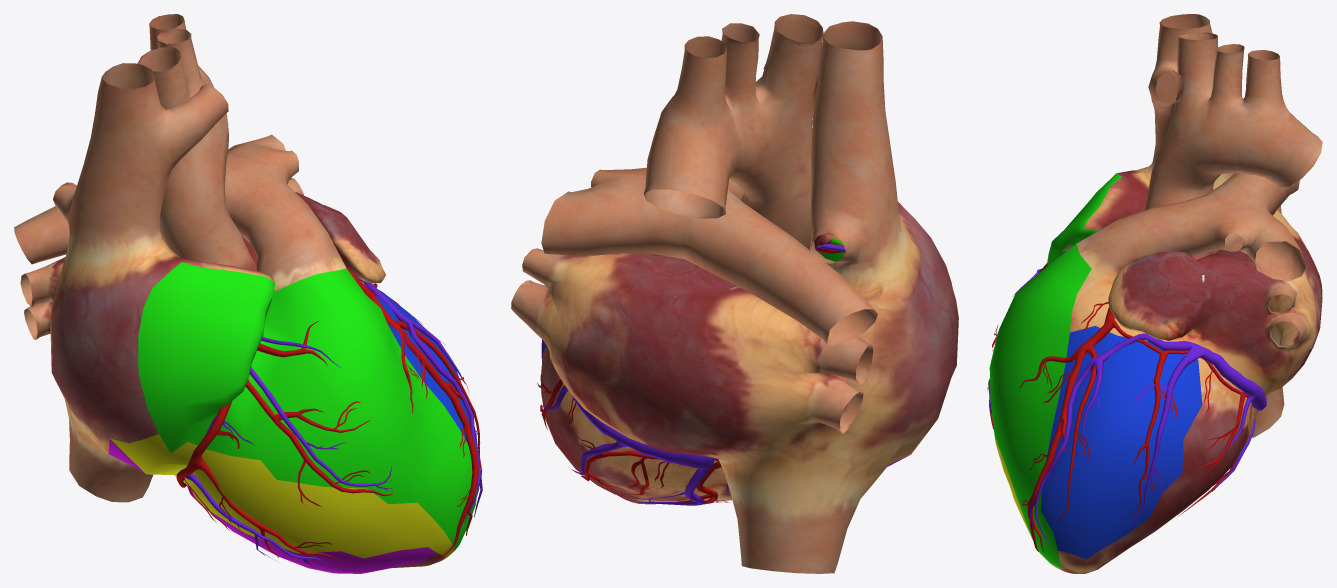
Rendered from new-human-heart.glb.
3 views of the same model, side by side, from view 1: azimuth 30°, elevation 25°; view 2: azimuth 150°, elevation 25°; view 3: azimuth 270°, elevation 25° (orthographic). The views are drawn at different scales.
Parts seen in each view (by area): view 1: Object_2, Object_4, Object_6, Object_3; view 2: Object_2, Object_6, Object_4, Object_3, Object_5; view 3: Object_2, Object_4, Object_6, Object_3, Object_5.
Part boxes in pixels (x1,y1,x2,y2): Object_2: (14, 14, 478, 573); Object_4: (176, 270, 482, 561); Object_6: (184, 277, 482, 568); Object_3: (183, 286, 474, 548); Object_2: (511, 14, 958, 573); Object_6: (541, 244, 845, 505); Object_4: (540, 244, 845, 504); Object_3: (537, 375, 730, 502); Object_5: (543, 385, 628, 474); Object_2: (989, 14, 1322, 573); Object_4: (989, 263, 1249, 551); Object_6: (988, 268, 1266, 544); Object_3: (987, 302, 1252, 505); Object_5: (1212, 395, 1255, 491).
Size of the model in its own units: 227 by 305 by 205.
Materials: 8 (3 with a texture image).
